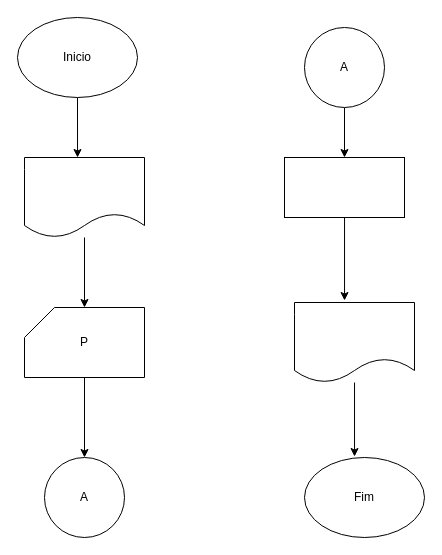
The diagram is 442 pixels wide and 555 high, and some of its shapes have lost their labels. The shapes that lost their labels are listed below. From the top down, each one's box as (x1, y1, x2, y2) in pixels, then its label:
(24, 156, 144, 238): "Informe a quantidade de chuva em Polegadas"
(284, 156, 404, 218): mm =P * 25.4
(294, 302, 414, 382): "A quantidade de chuva em milimetros é : " P
